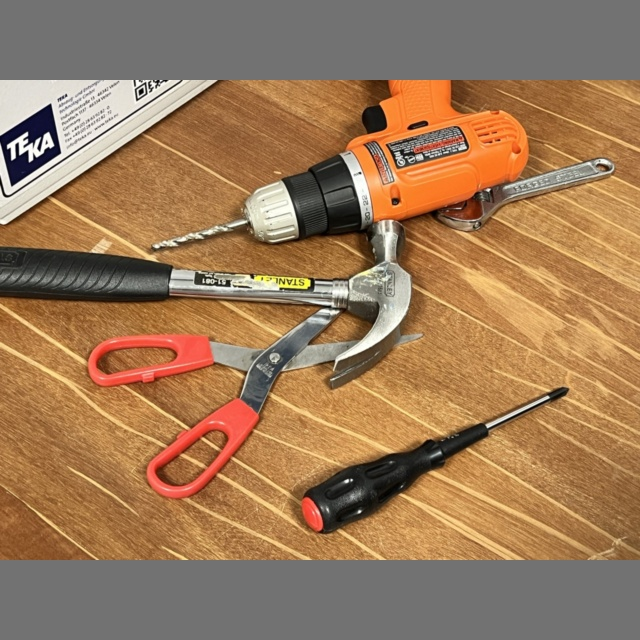drill: (150, 80, 528, 250)
scissor: (90, 306, 422, 495)
screwdriver: (302, 387, 568, 532)
